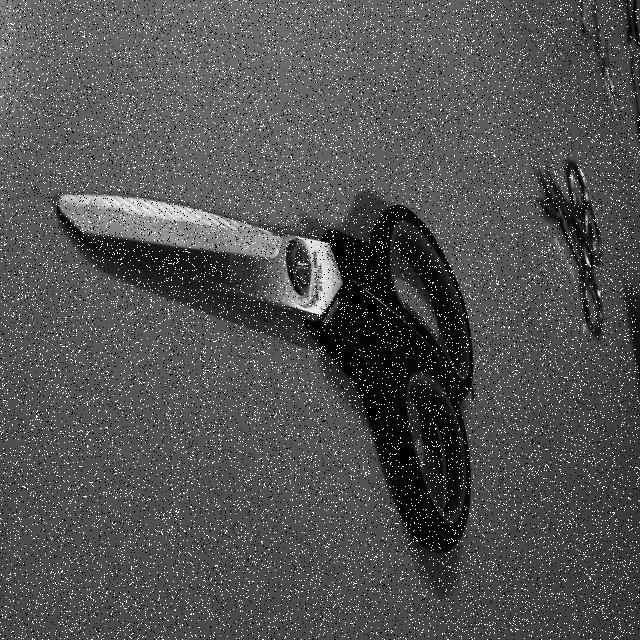scissors: (54, 172, 474, 558)
